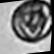correct: (7, 0, 54, 46)
